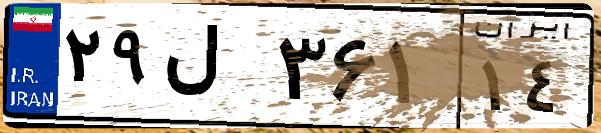1: (385, 28, 445, 110), (475, 38, 525, 113)
2: (57, 26, 110, 100)
3: (270, 28, 330, 110)
4: (525, 38, 570, 115)
6: (330, 28, 385, 110)
9: (110, 28, 158, 98)
ل: (158, 20, 270, 120)
